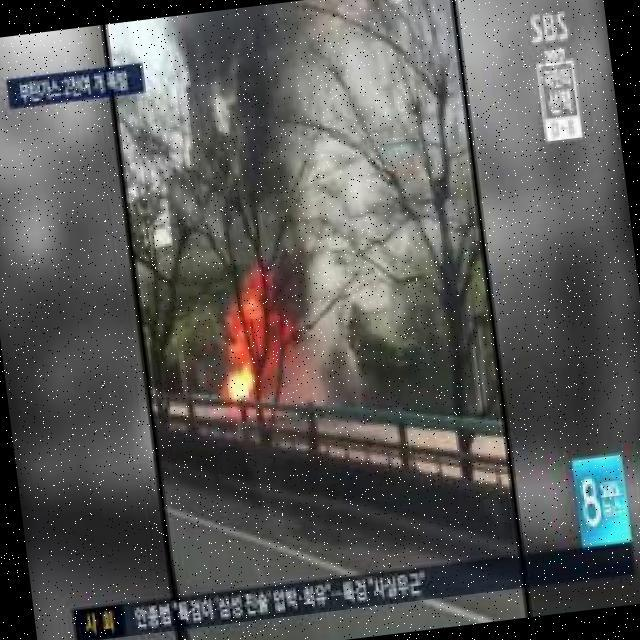Fire: (213, 286, 303, 401)
